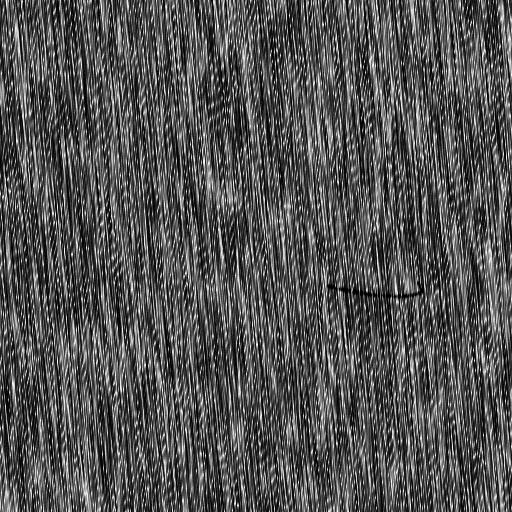DefectTypeC: (321, 280, 423, 301)
